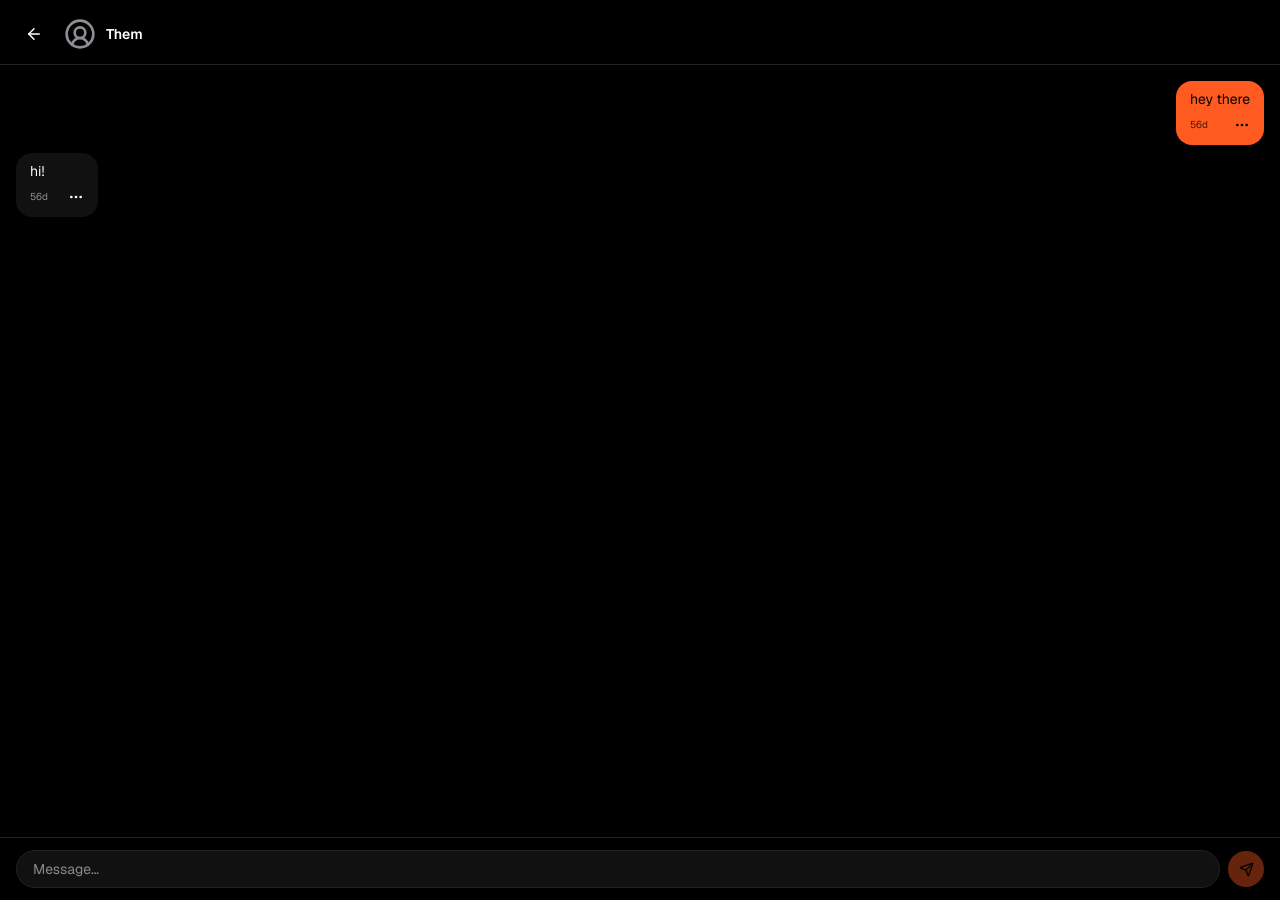
Test: DM thread page › shows a retry-friendly error and keeps the draft when sending fails
Expected: the text "hey there" is shown, [1190,89,1250,109]
Type "will fail" into the field with placeholder "Message…". click: point(618, 869)
box: [16,850,1220,888]
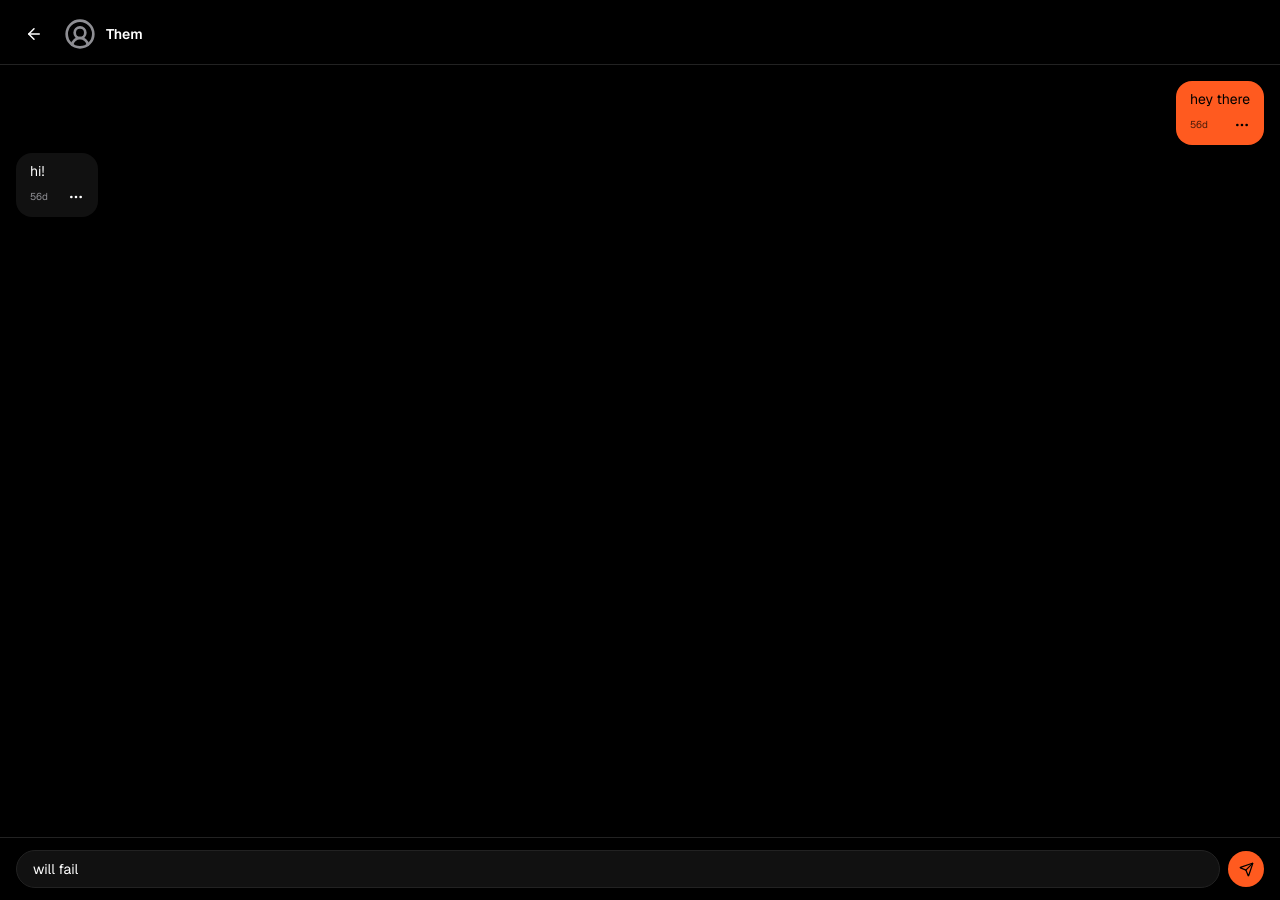
Click the button named "Send message". click: point(1246, 869)
box: [1228,851,1264,887]
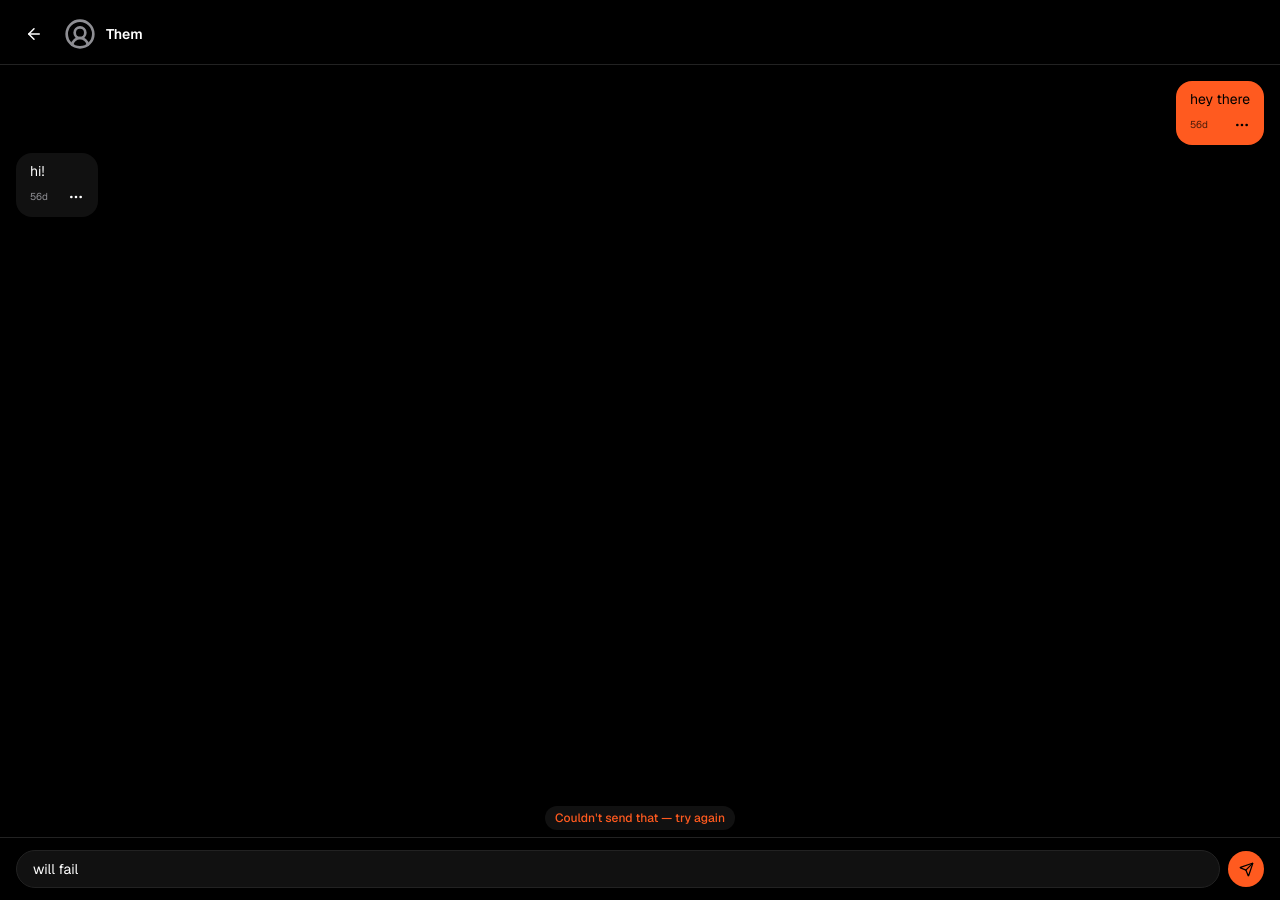
Now the text "Couldn't send that — try again" is shown, box [545,806,735,830]
